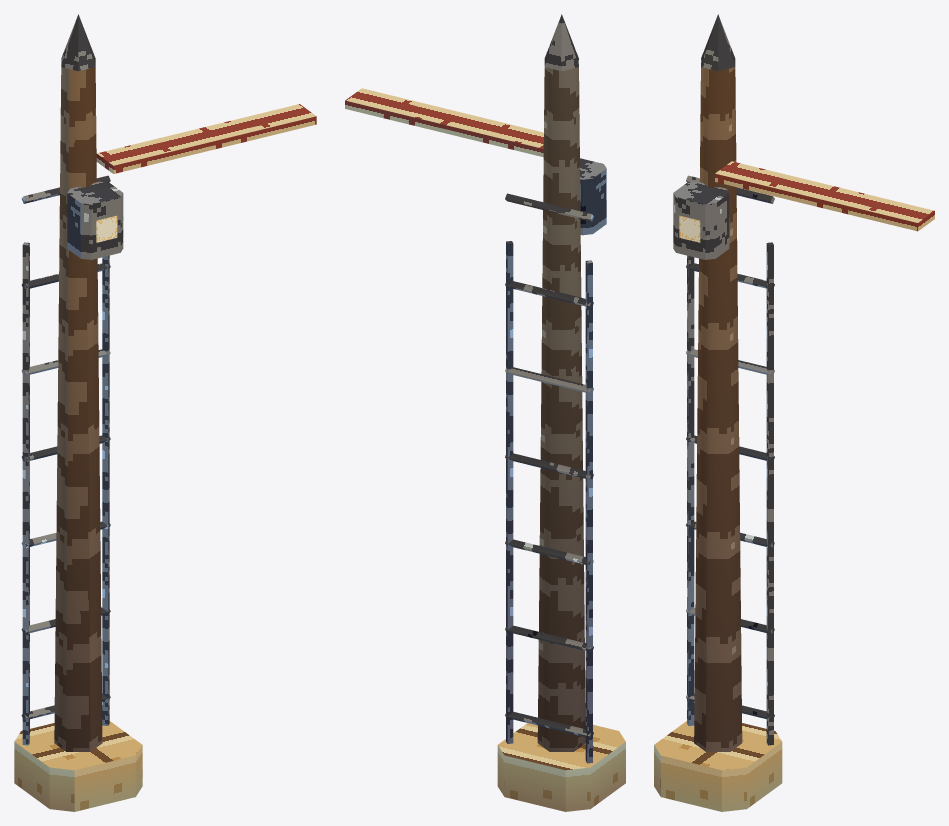
The model's file is wrail.signal.glb.
The picture shows the model from 3 angles, left to right: view 1: azimuth 30°, elevation 25°; view 2: azimuth 150°, elevation 25°; view 3: azimuth 330°, elevation 25°; orthographic projection.
Visible parts, largest first — view 1: kit_mast, kit_ladder, kit_base, kit_arm, kit_lamp, kit_cap; view 2: kit_mast, kit_ladder, kit_base, kit_arm, kit_lamp, kit_cap; view 3: kit_mast, kit_ladder, kit_base, kit_arm, kit_lamp, kit_cap.
Boxes of the visible parts, x1,y1,x2,y2 form: kit_mast: (54,67,102,751); kit_ladder: (21,175,110,745); kit_base: (14,721,142,811); kit_arm: (96,104,316,173); kit_lamp: (67,181,123,259); kit_cap: (61,14,95,71); kit_mast: (537,67,585,751); kit_ladder: (505,193,593,763); kit_base: (497,723,625,811); kit_arm: (345,88,543,157); kit_lamp: (580,158,606,235); kit_cap: (544,14,578,71); kit_mast: (694,67,742,751); kit_ladder: (686,175,774,745); kit_base: (654,721,782,811); kit_arm: (715,161,934,231); kit_lamp: (673,181,729,259); kit_cap: (701,14,735,71).
Bounding box in the file's own units: 2 × 5.55 × 0.72.
Materials: 5 (5 with a texture image).
